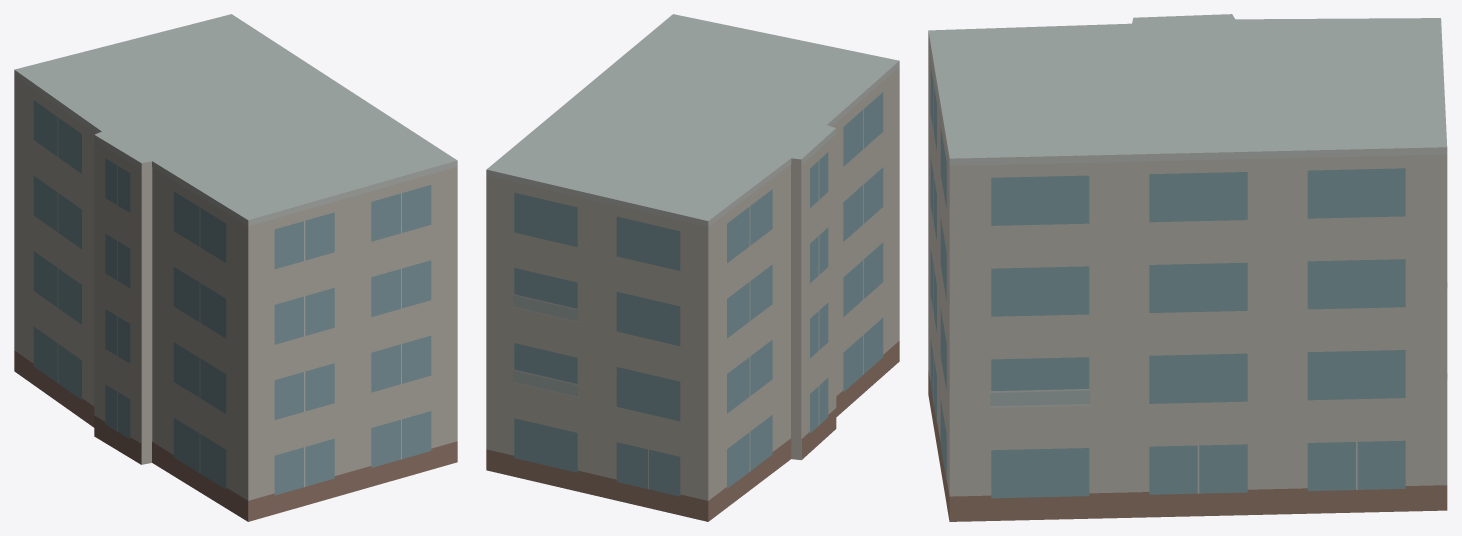
Rendered from survey-upis-32931797.glb.
3 views of the same model, side by side, from view 1: azimuth 30°, elevation 25°; view 2: azimuth 150°, elevation 25°; view 3: azimuth 270°, elevation 25° (orthographic). The views are drawn at different scales.
Visible parts, largest first — view 1: survey-upis-32931797.tmp; view 2: survey-upis-32931797.tmp; view 3: survey-upis-32931797.tmp.
Boxes of the visible parts, x1,y1,x2,y2 form: survey-upis-32931797.tmp: (14, 14, 457, 521); survey-upis-32931797.tmp: (486, 14, 899, 521); survey-upis-32931797.tmp: (928, 14, 1447, 521).
Bounding box in the file's own units: 10.43 × 12.2 × 15.82.
